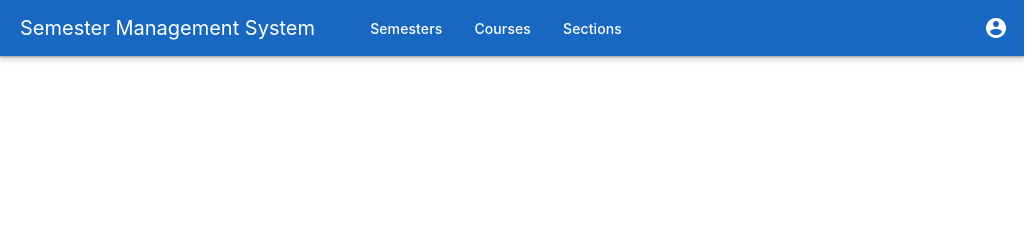
Test: Feature 1 — User Authentication & Session Management › US-1.6 — Role-based MenuBar › Admin MenuBar in Feature 1 has Sign out but no catalog links yet
Click the button named "Open profile menu" at point(996, 28), box [972,4,1020,52]
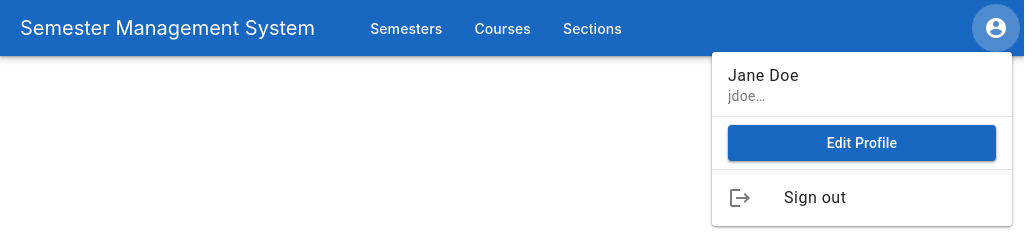
Expected: the text "Sign out" is shown, [784,188,846,207]
